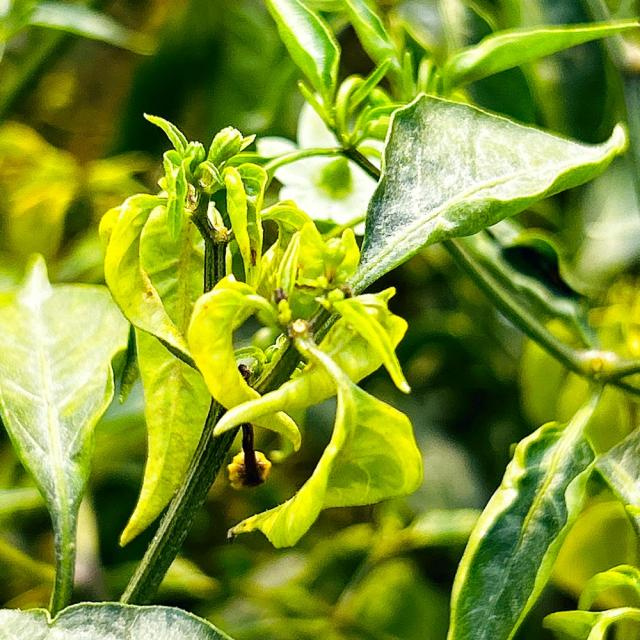Chilli_Leaf_Curl: (2, 2, 636, 635), (98, 112, 425, 550), (344, 91, 629, 296), (446, 380, 638, 638), (0, 251, 134, 617), (1, 600, 235, 638)
